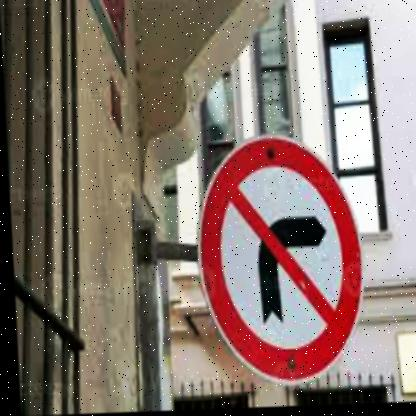No right turn: (189, 134, 363, 386)
